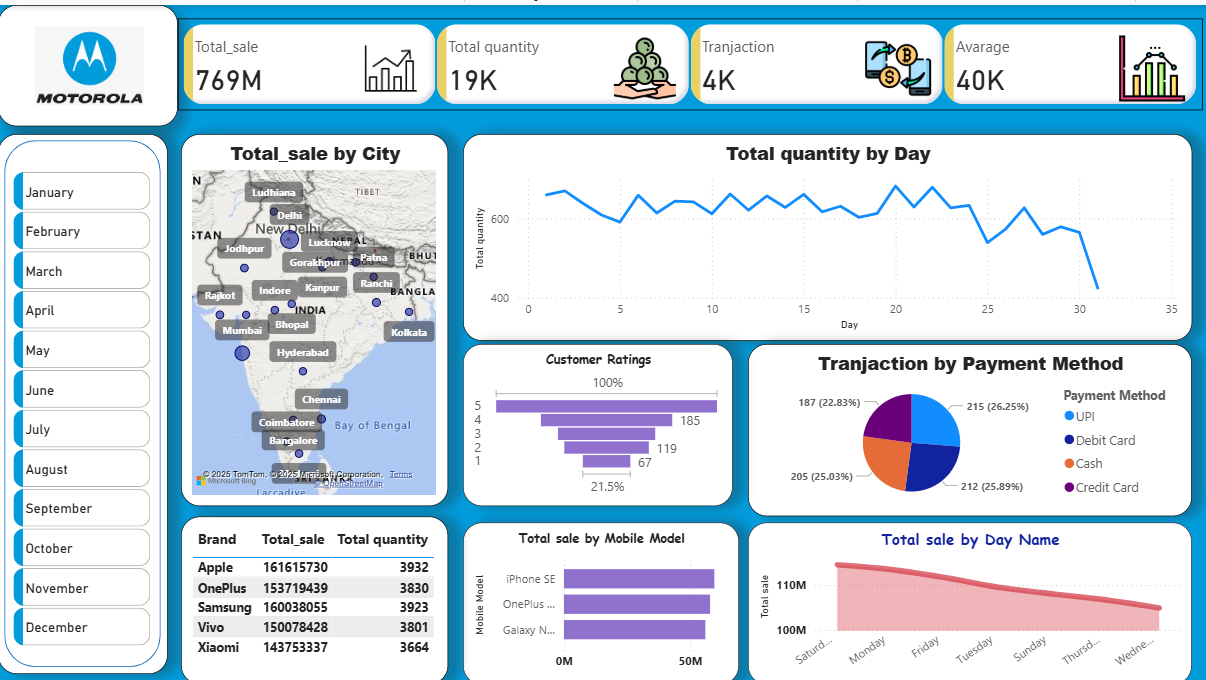

The page's visual inventory and layout, read from the dashboard file:
{"tool":"powerbi","page":{"name":"Page 1","canvas":[1280,720],"ordinal":0},"visuals":[{"type":"shape","box":[0,0,190.9,128.8],"z":0},{"type":"image","box":[0,17.5,194.1,93.8],"z":1000},{"type":"shape","box":[0,136.8,179.7,572.6],"z":2000},{"type":"advancedSlicerVisual","fields":{"Values":["Mobile sales data.Date.Variation.Date Hierarchy.Month"]},"box":[11.1,171.8,155.9,518.5],"z":3000},{"type":"cardVisual","fields":{"Data":["Mobile sales data.Total_sale","Mobile sales data.Total quantity","Mobile sales data.Tranjaction","Mobile sales data.Avarage"]},"box":[190.9,14.3,1086.4,97],"z":4000},{"type":"map","fields":{"Category":["Mobile sales data.City"],"Size":["Mobile sales data.Total_sale"]},"box":[194.1,136.8,283.1,394.5],"z":5000},{"type":"lineChart","fields":{"Category":["Mobile sales data.Date.Variation.Date Hierarchy.Month","Mobile sales data.Date.Variation.Date Hierarchy.Day"],"Y":["Mobile sales data.Total quantity"]},"box":[493.1,136.8,773,219.5],"z":6000},{"type":"clusteredBarChart","fields":{"Category":["Mobile sales data.Mobile Model"],"Y":["Mobile sales data.Total sale"]},"box":[493.1,548.8,292.7,171.8],"z":7000},{"type":"pieChart","fields":{"Category":["Mobile sales data.Payment Method"],"Y":["Mobile sales data.Tranjaction"]},"box":[795.3,359.5,470.8,182.9],"z":8000},{"type":"funnel","title":" Customer Ratings","fields":{"Category":["Mobile sales data.Customer Ratings"],"Y":["CountNonNull(Mobile sales data.Customer Ratings)"]},"box":[493.1,359.5,286.3,171.8],"z":9000},{"type":"areaChart","fields":{"Category":["Mobile sales data.Day Name"],"Y":["Mobile sales data.Total sale"]},"box":[795.3,548.8,470.8,171.8],"z":10000},{"type":"tableEx","fields":{"Values":["Mobile sales data.Brand","Mobile sales data.Total_sale","Mobile sales data.Total quantity"]},"box":[194.1,542.4,283.1,178.1],"z":11000}]}

Visuals, with their boxes in screenshot pixels (x1, y1, x2, y2), scaled from the page's 1280x720 canvas onto the 1206x680 screenshot:
shape: {"x1": 0, "y1": 0, "x2": 180, "y2": 122}
image: {"x1": 0, "y1": 17, "x2": 183, "y2": 105}
shape: {"x1": 0, "y1": 129, "x2": 169, "y2": 670}
advancedSlicerVisual - Mobile sales data.Date.Variation.Date Hierarchy.Month: {"x1": 10, "y1": 162, "x2": 157, "y2": 652}
cardVisual - Mobile sales data.Total_sale x Mobile sales data.Total quantity: {"x1": 180, "y1": 14, "x2": 1203, "y2": 105}
map - Mobile sales data.City x Mobile sales data.Total_sale: {"x1": 183, "y1": 129, "x2": 450, "y2": 502}
lineChart - Mobile sales data.Date.Variation.Date Hierarchy.Month x Mobile sales data.Date.Variation.Date Hierarchy.Day: {"x1": 465, "y1": 129, "x2": 1193, "y2": 337}
clusteredBarChart - Mobile sales data.Mobile Model x Mobile sales data.Total sale: {"x1": 465, "y1": 518, "x2": 740, "y2": 679}
pieChart - Mobile sales data.Payment Method x Mobile sales data.Tranjaction: {"x1": 749, "y1": 340, "x2": 1193, "y2": 512}
" Customer Ratings" funnel: {"x1": 465, "y1": 340, "x2": 734, "y2": 502}
areaChart - Mobile sales data.Day Name x Mobile sales data.Total sale: {"x1": 749, "y1": 518, "x2": 1193, "y2": 679}
tableEx - Mobile sales data.Brand x Mobile sales data.Total_sale: {"x1": 183, "y1": 512, "x2": 450, "y2": 679}
